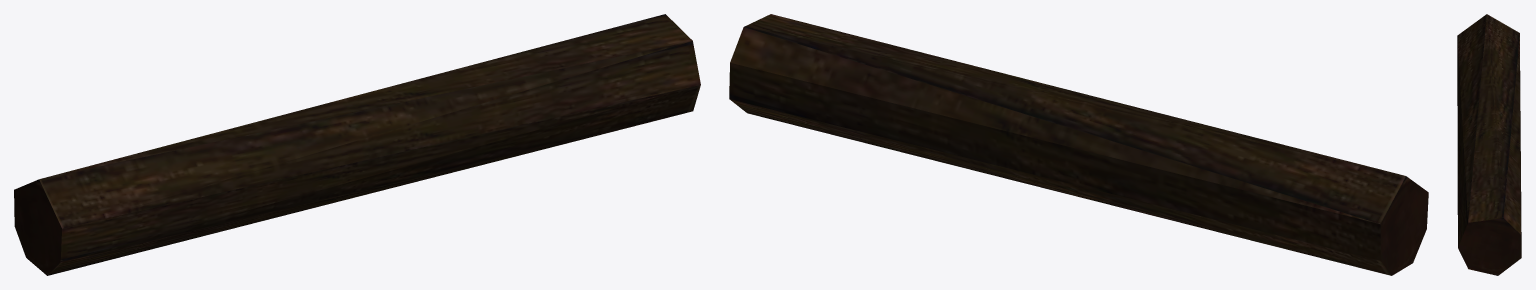
The model's file is STATIC_BELA3.glb.
3 views of the same model, side by side, from view 1: azimuth 30°, elevation 25°; view 2: azimuth 150°, elevation 25°; view 3: azimuth 270°, elevation 25° (orthographic). The views are drawn at different scales.
Parts seen in each view (by area): view 1: STATIC_BELA3; view 2: STATIC_BELA3; view 3: STATIC_BELA3.
Part boxes in pixels (x1,y1,x2,y2): STATIC_BELA3: (14,14,700,275); STATIC_BELA3: (729,14,1428,275); STATIC_BELA3: (1457,14,1521,275).
Size of the model in its own units: 1.63 by 0.2228 by 0.2175.
1 material, 1 textured.
